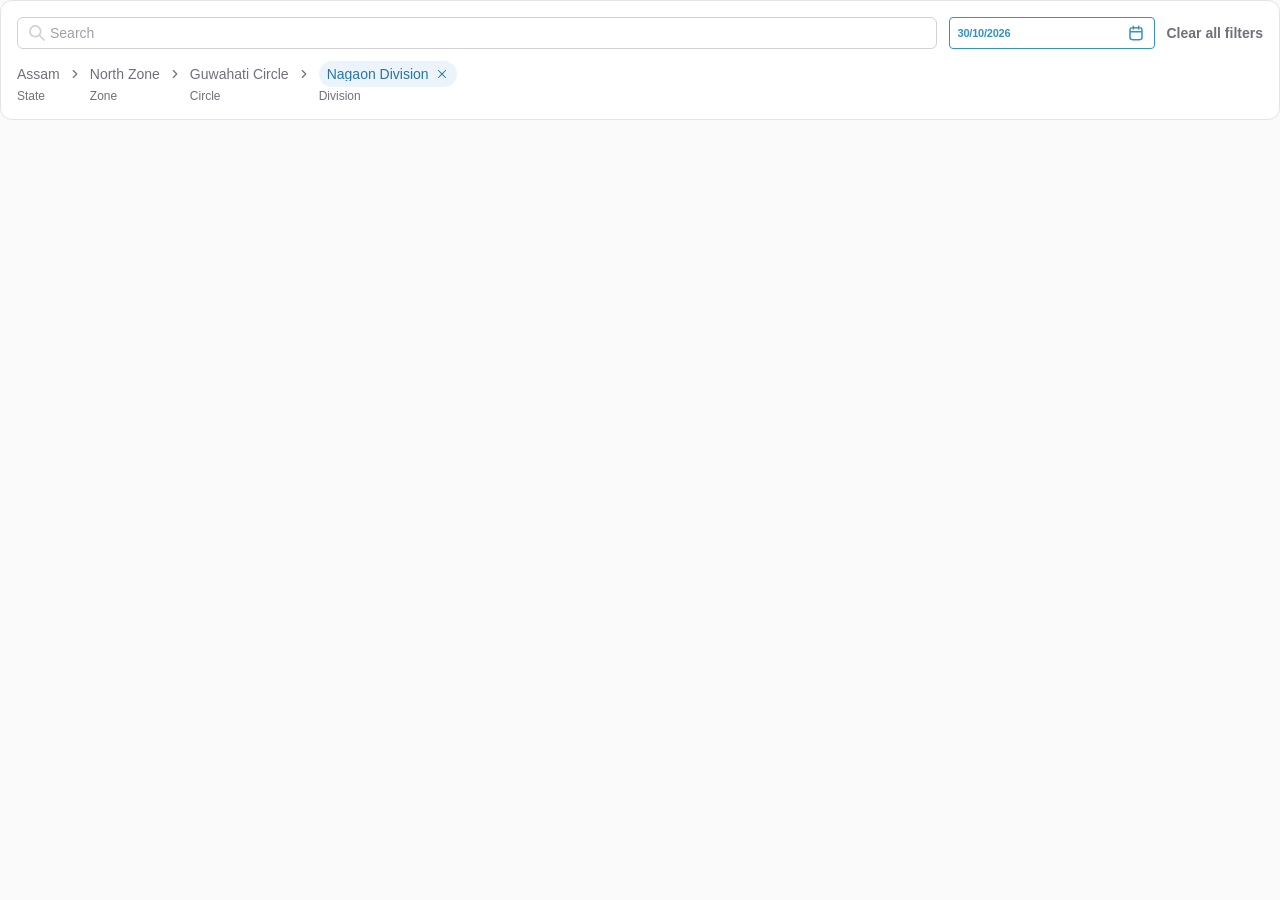
Test case: DashboardFilters › uses departmental subdivision selection for the leaf level
Focus the field at (477, 33), box [17, 17, 936, 49]
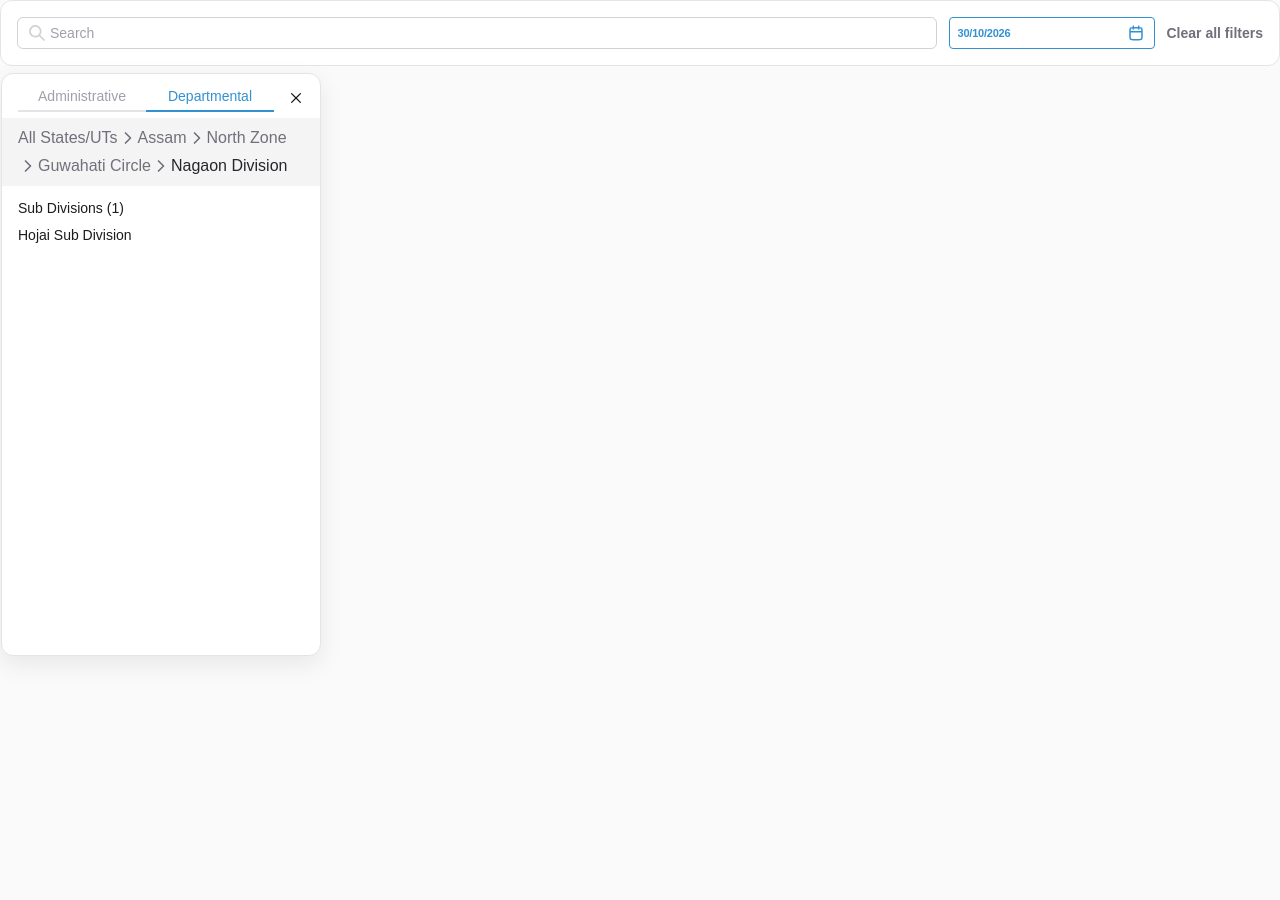
Check: the text "Sub Divisions (1)" is shown, box [18, 200, 124, 216]
Click the button "Hojai Sub Division" at (118, 235), box [18, 227, 218, 244]
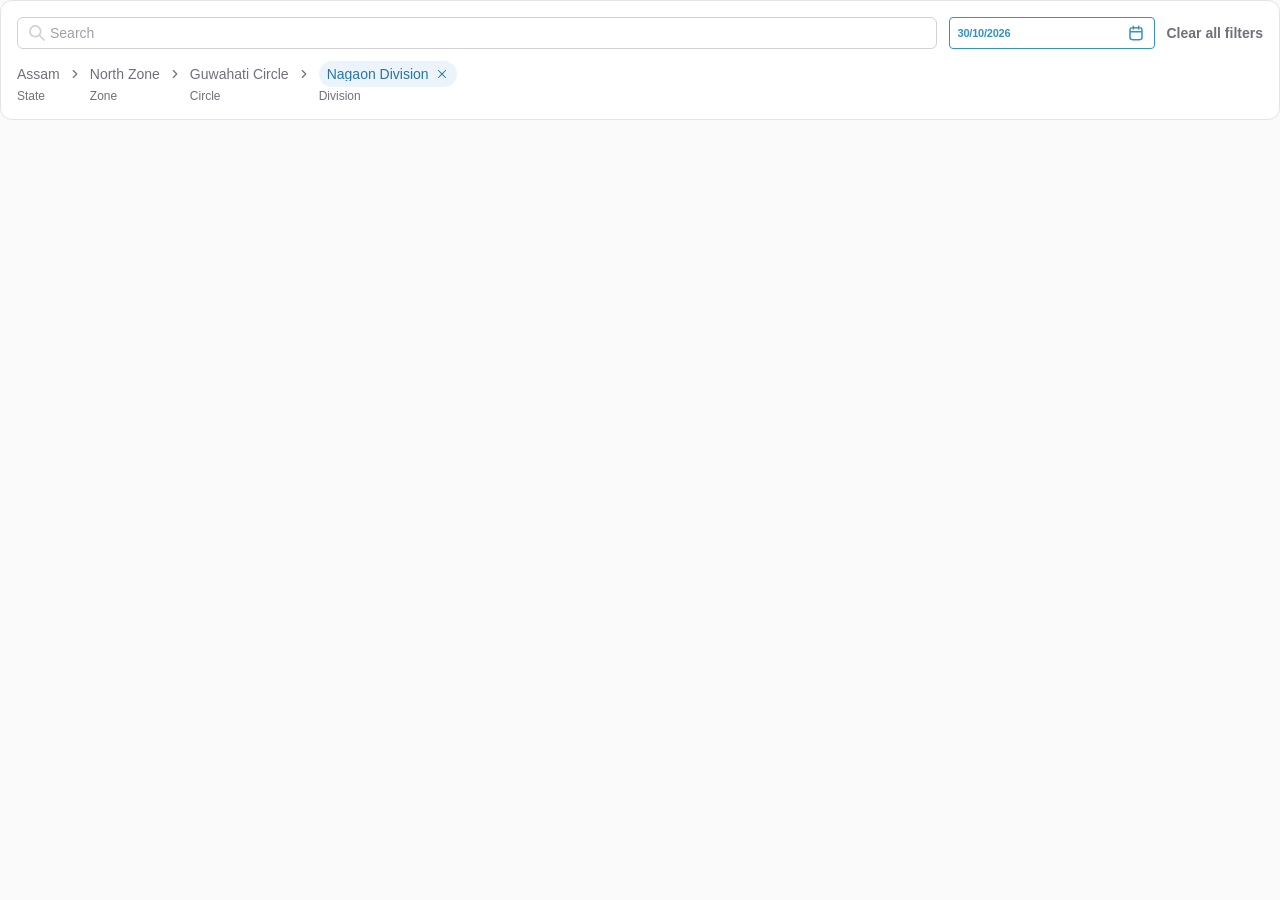
Check: the text "Sub Divisions" is gone
